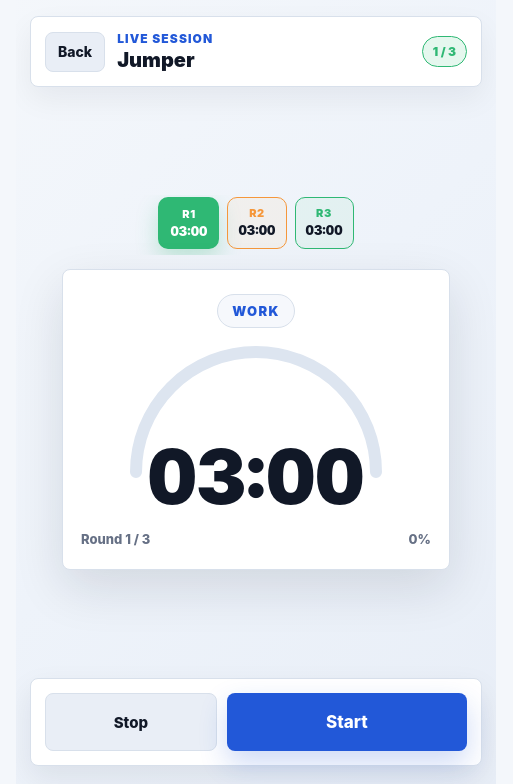
Test: SessionRunScreen › jumps to a chosen round via the round tiles
The width and height of the screenshot is (513, 784).
Expected: the text "Jumper" is shown, x1=117 y1=48 x2=195 y2=72
What coordinates should you click on to do the following:
click the text "R3"
I would click on:
 (324, 213)
Its box is x1=316 y1=206 x2=332 y2=220.
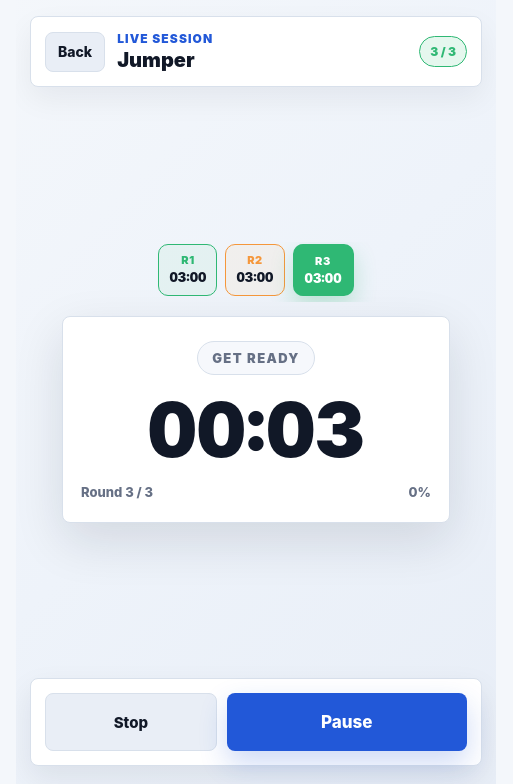
Now the text "Round 3 / 3" is shown, box x1=81 y1=484 x2=153 y2=500
